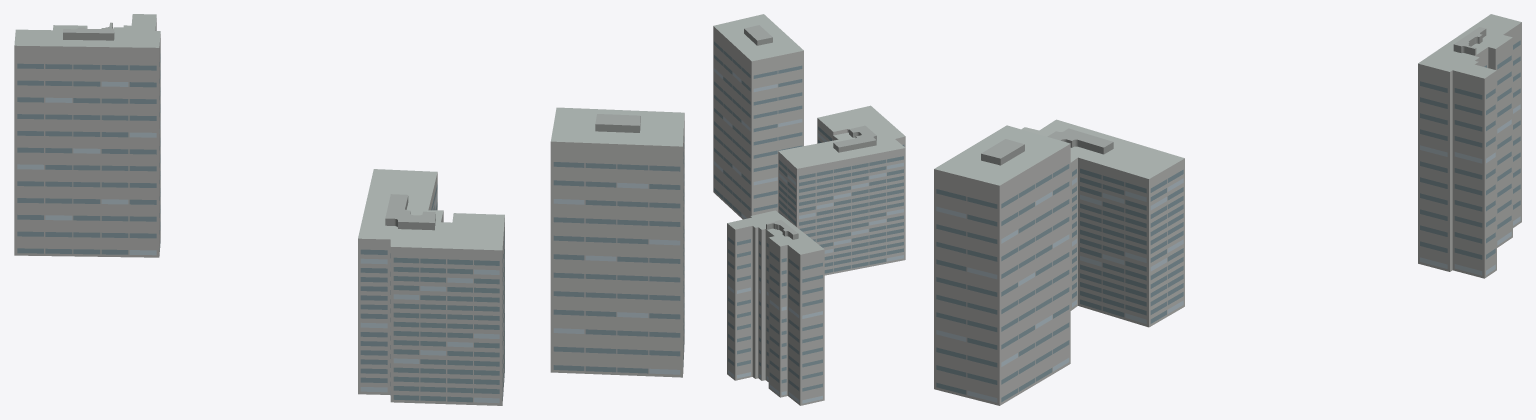
Rendered from apt-a10023816.glb.
The picture shows the model from 3 angles, left to right: view 1: azimuth 30°, elevation 25°; view 2: azimuth 150°, elevation 25°; view 3: azimuth 270°, elevation 25°; orthographic projection. The views are drawn at different scales.
Visible parts, largest first — view 1: apt-a10023816; view 2: apt-a10023816; view 3: apt-a10023816.
Part boxes in pixels (box(x1,y1,x2,y2)): apt-a10023816: box(14, 14, 684, 405); apt-a10023816: box(713, 14, 905, 405); apt-a10023816: box(934, 14, 1521, 405).
Size of the model in its own units: 143 by 79 by 185.
